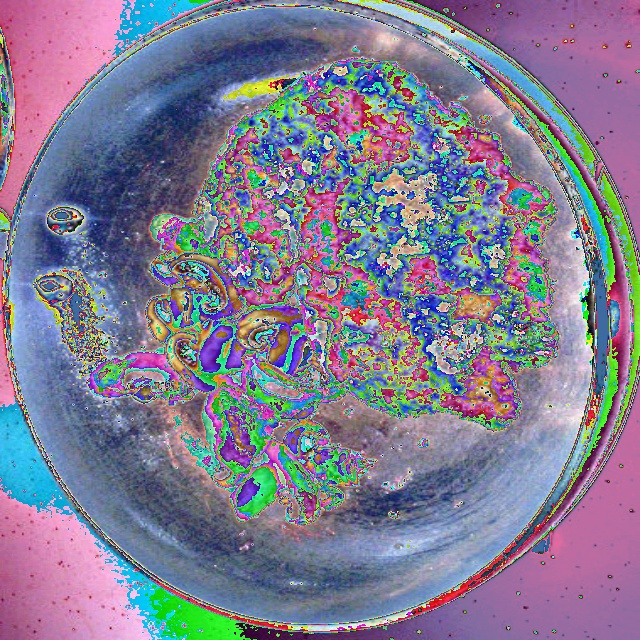background: (82, 55, 558, 526)
